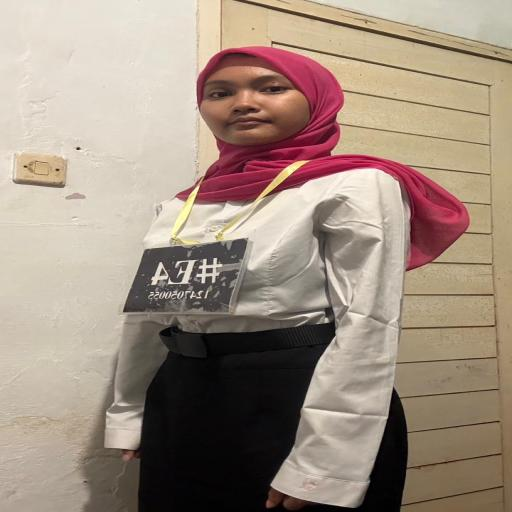kemeja_benar: (137, 180, 425, 334)
kerudung_benar: (160, 42, 400, 195)
nametag_ada: (121, 191, 252, 318)
rok_benar: (136, 354, 416, 512)
sabuk_ada: (148, 325, 354, 357)
